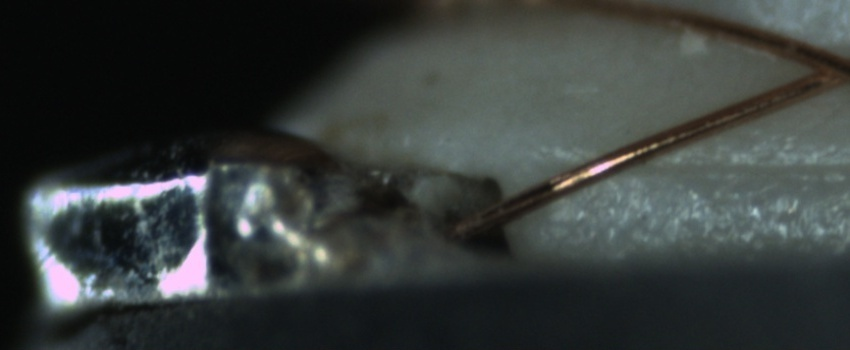CL: (778, 41, 850, 99)
DL: (607, 133, 846, 202)
